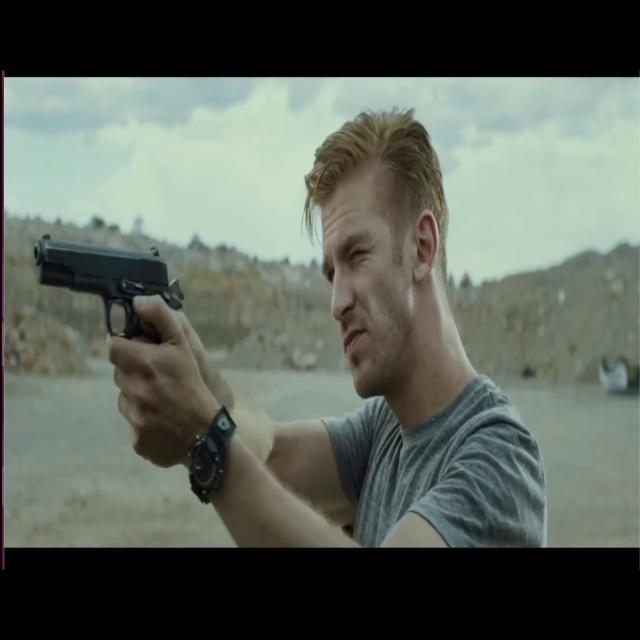weapons: (24, 214, 190, 390)
